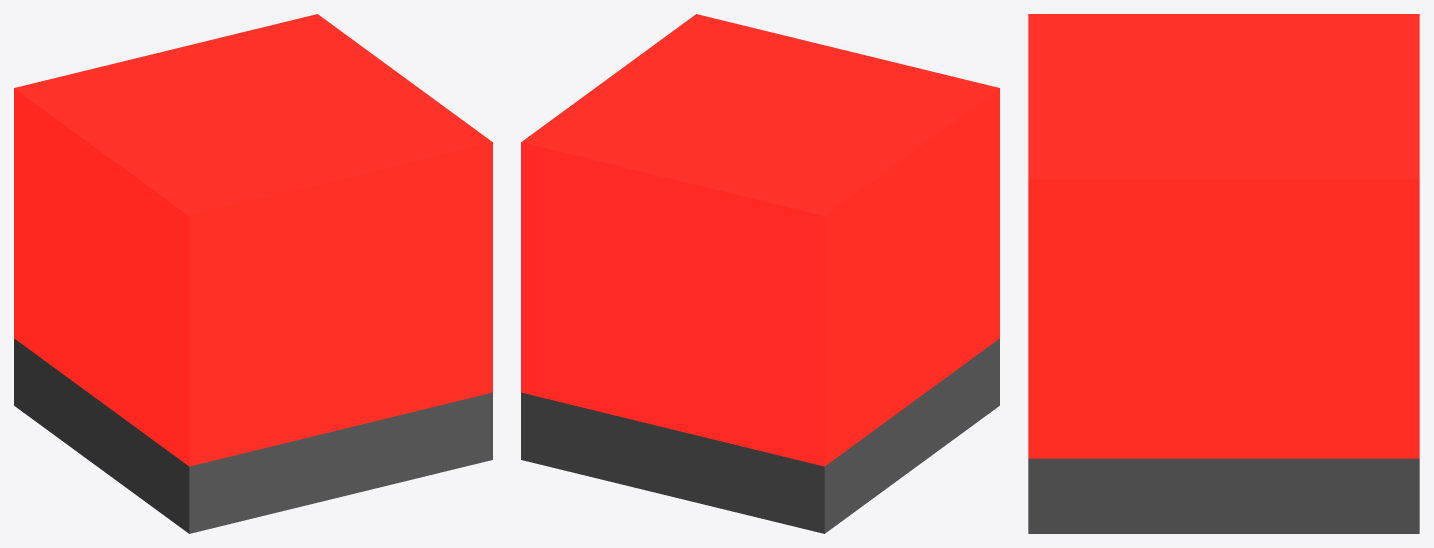
File: Lampada.fbx
3 renders of one model, left to right at view 1: azimuth 30°, elevation 25°; view 2: azimuth 150°, elevation 25°; view 3: azimuth 270°, elevation 25°, orthographic. The views are drawn at different scales.
Parts seen in each view (by area): view 1: Lampada; view 2: Lampada; view 3: Lampada.
Boxes of the visible parts, <box> form: Lampada: <box>14,14,492,533</box>; Lampada: <box>521,14,999,533</box>; Lampada: <box>1028,14,1419,533</box>.
Size of the model in its own units: 4.99 by 4.99 by 4.99.
